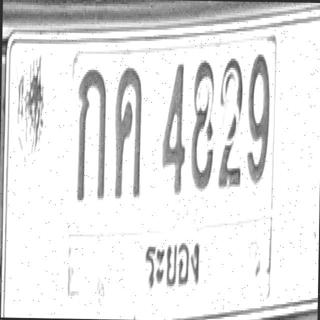A01: (76, 66, 106, 201)
A04: (113, 64, 143, 198)
N04: (160, 60, 187, 194)
N09: (246, 53, 270, 184)
P53: (142, 219, 201, 293)
